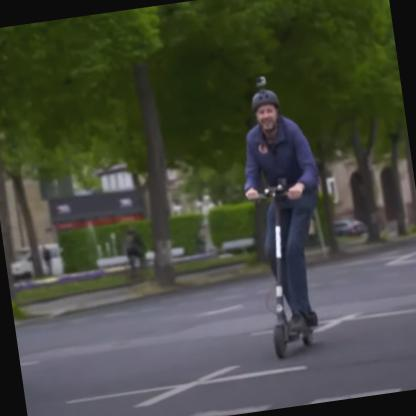helmet: (248, 90, 283, 138)
human: (245, 88, 312, 324)
kickboard: (269, 309, 320, 358)
